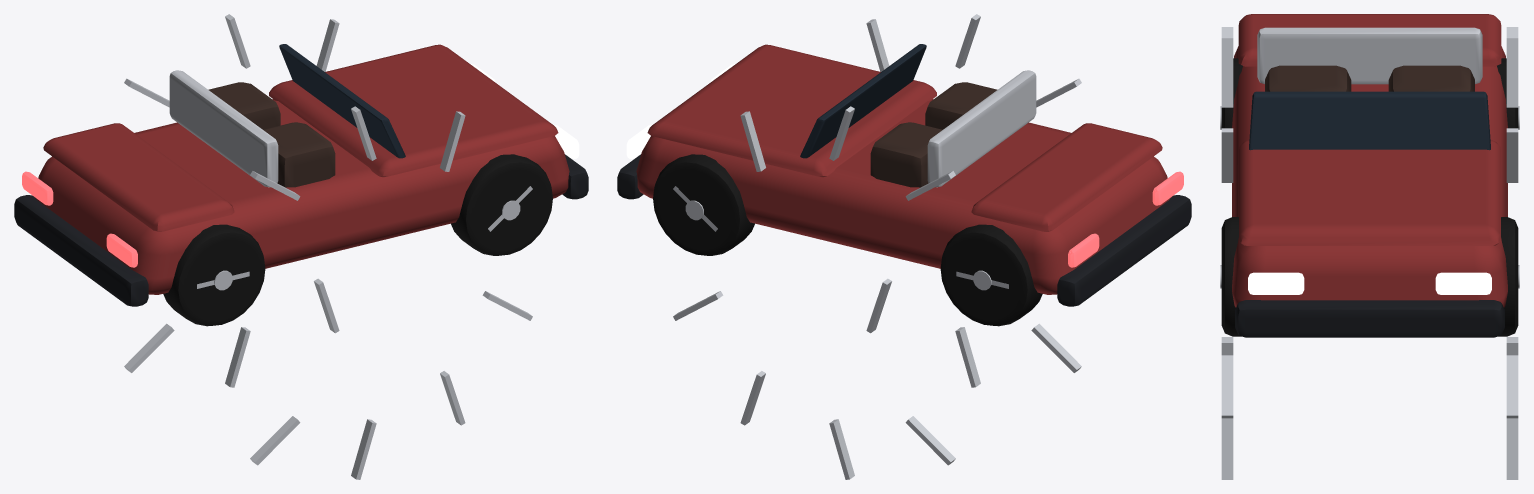
File: roadster.glb
The picture shows the model from 3 angles, left to right: view 1: azimuth 30°, elevation 25°; view 2: azimuth 150°, elevation 25°; view 3: azimuth 270°, elevation 25°; orthographic projection. The views are drawn at different scales.
Parts seen in each view (by area): view 1: part-paint, wheel--10--1-tyre, wheel-+10--1-tyre, part-trim, part-chrome, part-seat, part-glass, wheel-+10--1-hub, wheel--10--1-hub, wheel-+10-1-hub, wheel--10-1-hub, part-taillight; view 2: part-paint, wheel--10-1-tyre, wheel-+10-1-tyre, part-trim, part-chrome, part-seat, part-glass, wheel-+10-1-hub, wheel--10-1-hub, wheel-+10--1-hub, wheel--10--1-hub, part-taillight; view 3: part-paint, part-glass, part-trim, part-chrome, part-seat, wheel-+10-1-hub, wheel-+10--1-hub, wheel--10-1-hub, wheel--10--1-hub, wheel-+10-1-tyre, wheel-+10--1-tyre, headlight-1 (+3 smaller).
Boxes of the visible parts, x1,y1,x2,y2 form: part-paint: [34, 44, 569, 294]; wheel--10--1-tyre: [163, 224, 265, 326]; wheel-+10--1-tyre: [451, 154, 552, 255]; part-trim: [14, 154, 588, 306]; part-chrome: [169, 70, 278, 187]; part-seat: [208, 82, 335, 187]; part-glass: [279, 44, 405, 158]; wheel-+10--1-hub: [250, 200, 532, 479]; wheel--10--1-hub: [197, 106, 532, 290]; wheel-+10-1-hub: [124, 278, 339, 387]; wheel--10-1-hub: [124, 14, 339, 107]; part-taillight: [22, 171, 137, 267]; part-paint: [636, 44, 1171, 294]; wheel--10-1-tyre: [940, 224, 1042, 326]; wheel-+10-1-tyre: [653, 154, 754, 255]; part-trim: [617, 154, 1191, 306]; part-chrome: [927, 70, 1036, 187]; part-seat: [870, 82, 997, 187]; part-glass: [800, 44, 926, 158]; wheel-+10-1-hub: [673, 200, 955, 479]; wheel--10-1-hub: [673, 106, 1008, 290]; wheel-+10--1-hub: [866, 278, 1081, 387]; wheel--10--1-hub: [866, 14, 1081, 107]; part-taillight: [1068, 171, 1183, 267]; part-paint: [1232, 14, 1507, 307]; part-glass: [1249, 91, 1490, 150]; part-trim: [1235, 300, 1504, 337]; part-chrome: [1257, 27, 1482, 84]; part-seat: [1265, 65, 1474, 91]; wheel-+10-1-hub: [1506, 265, 1519, 479]; wheel-+10--1-hub: [1220, 265, 1233, 479]; wheel--10-1-hub: [1506, 27, 1519, 182]; wheel--10--1-hub: [1220, 27, 1233, 182]; wheel-+10-1-tyre: [1498, 217, 1518, 336]; wheel-+10--1-tyre: [1221, 217, 1241, 336]; headlight-1: [1435, 272, 1491, 294].
Bounding box in the file's own units: 32.2 × 24.59 × 15.96.
